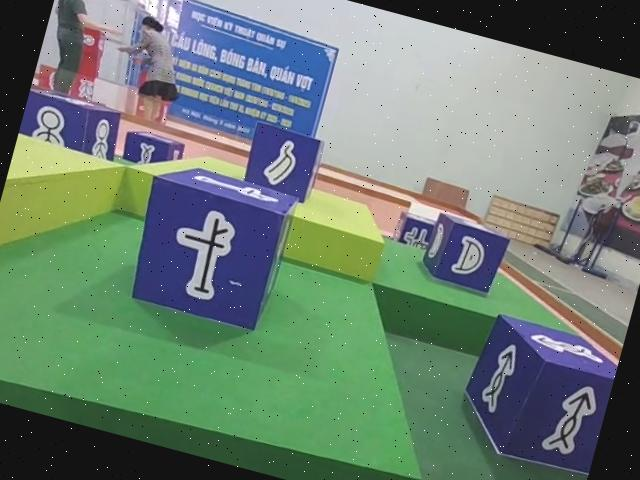R2 Real Blue: (121, 159, 300, 340), (452, 312, 622, 480), (418, 210, 513, 298), (17, 82, 122, 158), (237, 119, 325, 205), (121, 124, 188, 172), (388, 210, 435, 251)
